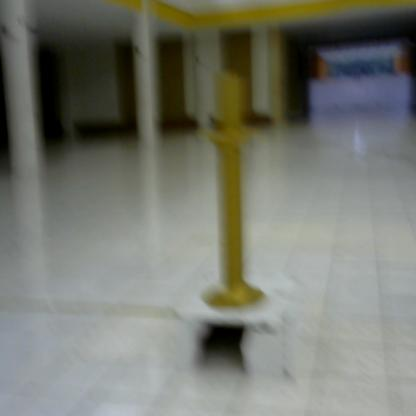pole: (195, 66, 274, 319)
